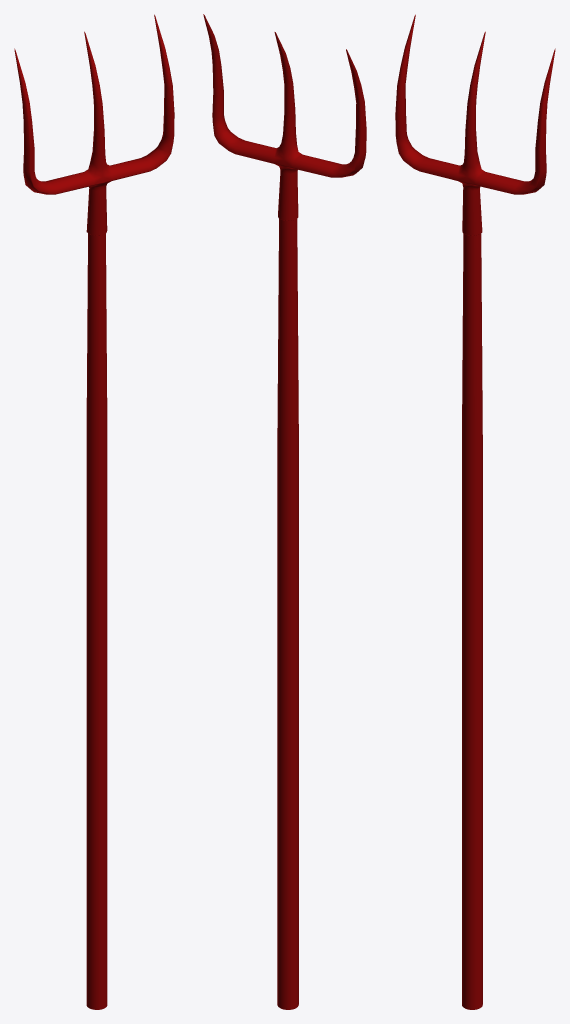
The model's file is SM_PitchFork.gltf.
3 views of the same model, side by side, from view 1: azimuth 30°, elevation 25°; view 2: azimuth 150°, elevation 25°; view 3: azimuth 330°, elevation 25° (orthographic).
Visible parts, largest first — view 1: SM_PitchFork; view 2: SM_PitchFork; view 3: SM_PitchFork.
Boxes of the visible parts, x1,y1,x2,y2 form: SM_PitchFork: (14, 14, 174, 1009); SM_PitchFork: (203, 14, 366, 1009); SM_PitchFork: (395, 14, 555, 1009).
Bounding box in the file's own units: 0.2943 × 1.82 × 0.0653.
